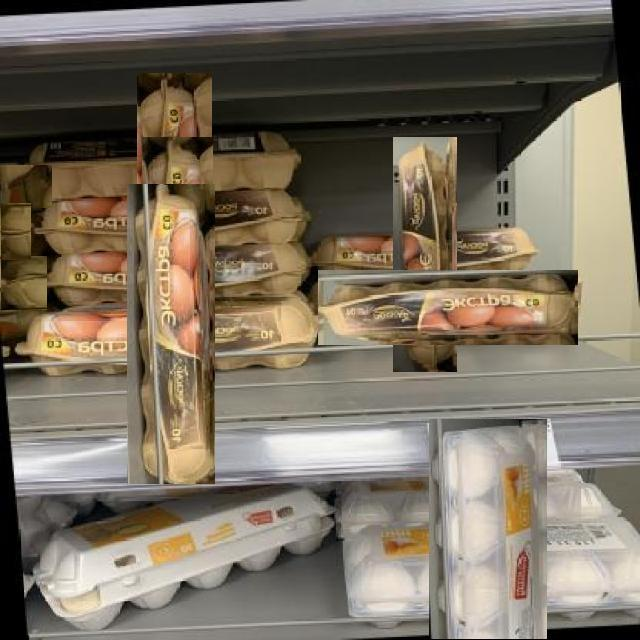Egg: (25, 484, 337, 635), (126, 184, 215, 494), (428, 420, 547, 640), (137, 73, 212, 366), (142, 137, 213, 414), (317, 270, 578, 345), (394, 136, 457, 372), (0, 255, 47, 310), (0, 164, 52, 208), (0, 202, 31, 260)
